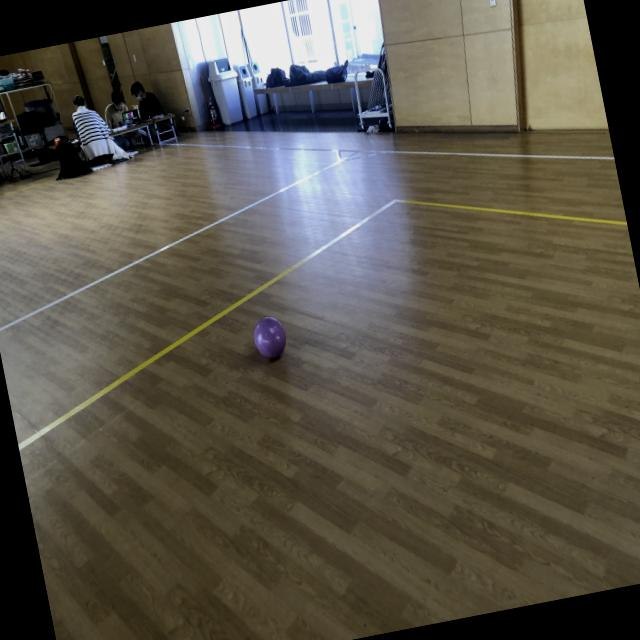purple_ball: (250, 312, 290, 362)
